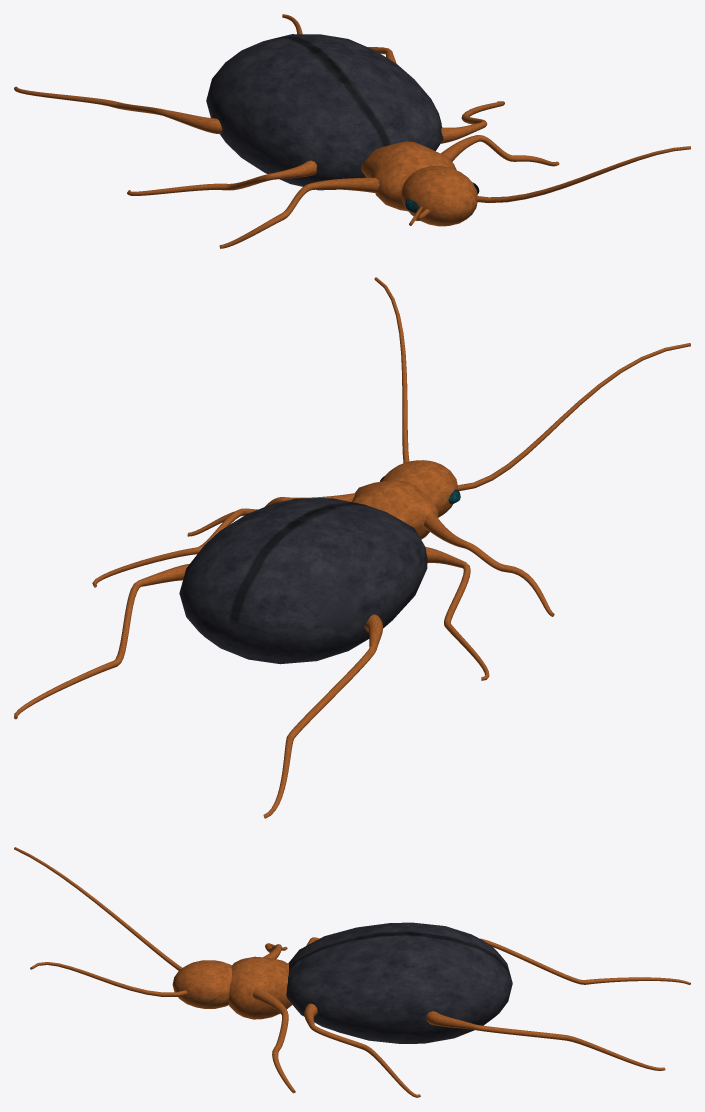
File: beetle.glb
3 views of the same model, one above another, from view 1: azimuth 30°, elevation 25°; view 2: azimuth 150°, elevation 25°; view 3: azimuth 270°, elevation 25° (orthographic). The views are drawn at different scales.
Parts seen in each view (by area): view 1: Abdomen, Head, Neck, Back Leg 1, Front Leg 1, Main Leg 1, Antenna 1, Front Leg 2, Main Leg 2; view 2: Abdomen, Neck, Head, Back Leg 1, Back Leg 2, Antenna 2, Front Leg 1, Main Leg 1, Main Leg 2, Antenna 1; view 3: Abdomen, Neck, Head, Back Leg 2, Back Leg 1, Front Leg 2, Main Leg 2, Antenna 2, Antenna 1.
Part boxes in pixels (x1,y1,x2,y2): Abdomen: (206,34,443,190); Head: (401,166,477,226); Neck: (361,141,456,211); Back Leg 1: (14,86,222,133); Front Leg 1: (219,177,379,248); Main Leg 1: (127,160,316,195); Antenna 1: (476,146,690,202); Front Leg 2: (441,135,559,166); Main Leg 2: (441,101,504,143); Abdomen: (179,498,427,664); Neck: (352,480,438,539); Head: (381,460,458,517); Back Leg 1: (263,614,382,818); Back Leg 2: (14,564,189,719); Antenna 2: (457,343,690,491); Front Leg 1: (424,512,554,616); Main Leg 1: (425,546,489,680); Main Leg 2: (92,508,257,587); Antenna 1: (374,277,409,463); Abdomen: (286,922,512,1043); Neck: (228,956,291,1019); Head: (172,960,232,1008); Back Leg 2: (426,1011,665,1070); Back Leg 1: (480,938,690,984); Front Leg 2: (252,987,295,1093); Main Leg 2: (304,1003,420,1097); Antenna 2: (14,847,182,970); Antenna 1: (30,962,187,996).
Bounding box in the file's own units: 1.03 × 0.4205 × 1.9.
Materials: 3 (3 with a texture image).
